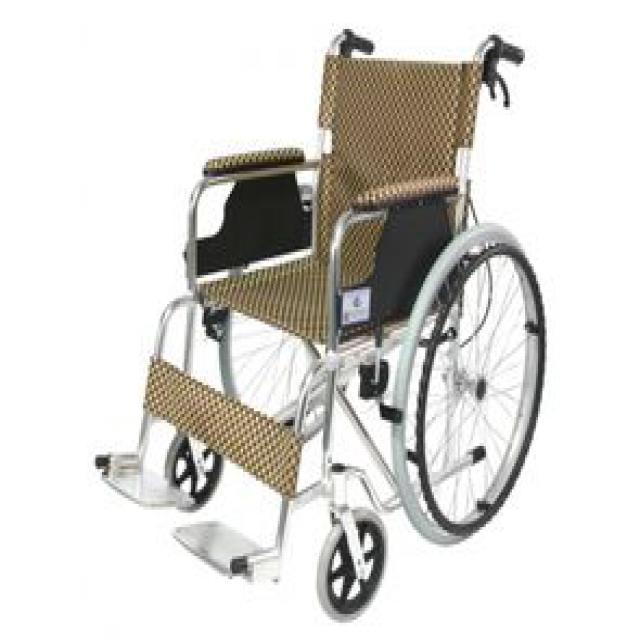wheelchair: (84, 8, 554, 638)
